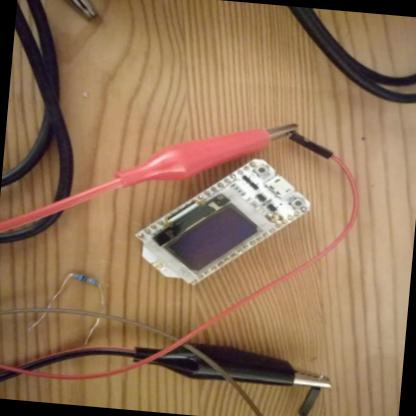Heltec_ESP32_Lora: (127, 139, 324, 300)
